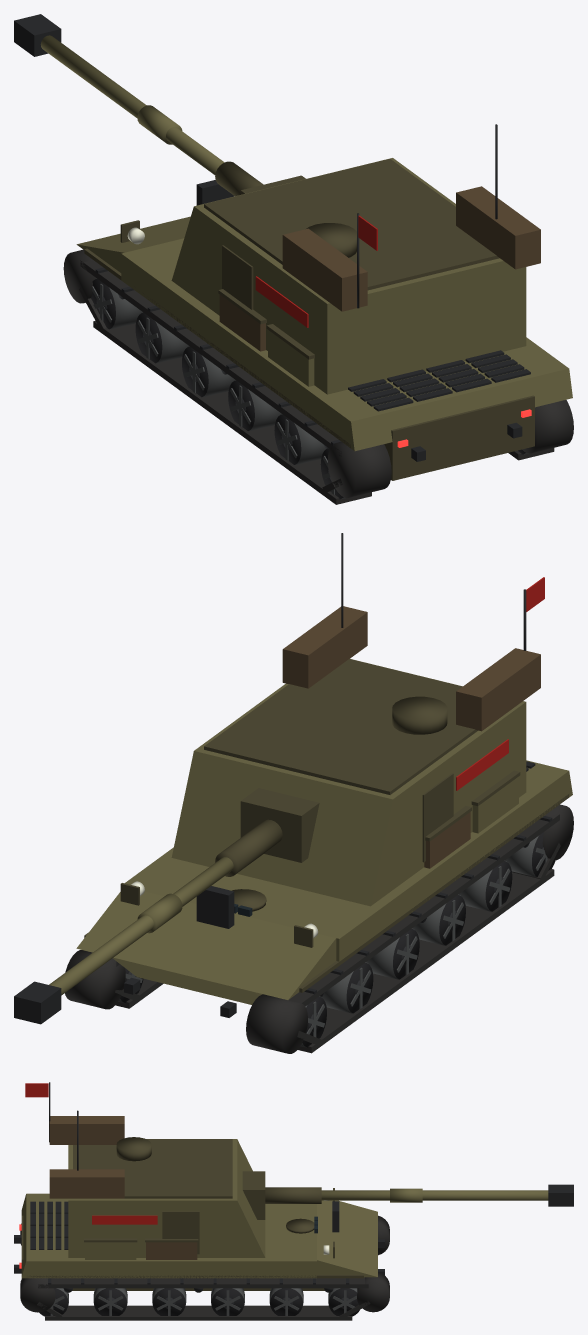
File: Artillery_Red.fbx
3 renders of one model, top to bottom at view 1: azimuth 30°, elevation 25°; view 2: azimuth 150°, elevation 25°; view 3: azimuth 270°, elevation 25°, orthographic. The views are drawn at different scales.
Parts seen in each view (by area): view 1: TurretBody, TurretRoof, UpperHull, LowerHull, RearSlope, TrackBottomL, AmmoRackR, AmmoRackL, TrackTopL, RearPlate, Barrel, TrackWrapRearL (+23 smaller); view 2: TurretRoof, TurretNose, UpperHull, Glacis, TurretBody, AmmoRackL, AmmoRackR, TrackBottomL, TrackTopL, Mantlet, Barrel, TrackWrapFrontL (+21 smaller); view 3: UpperHull, TurretBody, TurretRoof, Glacis, TrackTopR, TrackBottomR, AmmoRackR, Barrel, AmmoRackL, TurretNose, SideDoorR, TrackWrapRearR (+20 smaller).
Boxes of the visible parts, x1,y1,x2,y2 form: TurretBody: (194, 158, 526, 394); TurretRoof: (204, 159, 499, 290); UpperHull: (121, 238, 568, 447); LowerHull: (384, 407, 534, 480); RearSlope: (351, 368, 572, 451); TrackBottomL: (93, 320, 371, 504); AmmoRackR: (456, 186, 540, 269); AmmoRackL: (282, 228, 367, 311); TrackTopL: (80, 260, 341, 456); RearPlate: (389, 395, 534, 480); Barrel: (40, 35, 224, 174); TrackWrapRearL: (327, 442, 391, 497); TurretRoof: (204, 659, 477, 794); TurretNose: (171, 751, 392, 906); UpperHull: (125, 760, 569, 961); Glacis: (76, 891, 336, 999); TurretBody: (194, 659, 526, 889); AmmoRackL: (456, 648, 540, 731); AmmoRackR: (282, 606, 367, 688); TrackBottomL: (298, 869, 554, 1053); TrackTopL: (289, 814, 559, 1006); Mantlet: (240, 788, 319, 862); Barrel: (49, 857, 233, 995); TrackWrapFrontL: (246, 994, 307, 1053); UpperHull: (26, 1193, 316, 1278); TurretBody: (68, 1139, 237, 1257); TurretRoof: (73, 1139, 232, 1198); Glacis: (317, 1200, 377, 1277); TrackTopR: (38, 1277, 368, 1288); TrackBottomR: (45, 1305, 352, 1320); AmmoRackR: (49, 1169, 124, 1198); Barrel: (321, 1190, 548, 1200); AmmoRackL: (49, 1116, 124, 1144); TurretNose: (237, 1139, 265, 1257); SideDoorR: (162, 1211, 199, 1254); TrackWrapRearR: (20, 1278, 55, 1312).
Bounding box in the file's own units: 341 × 1194 × 470.
